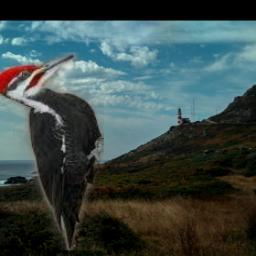Woodpecker: (0, 53, 104, 251)
